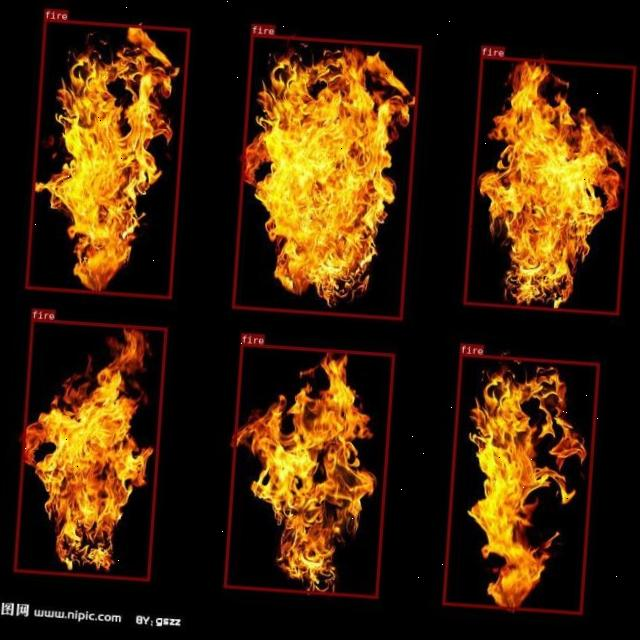fire: (230, 33, 420, 320), (24, 18, 190, 298), (462, 54, 634, 314), (223, 342, 395, 598), (442, 353, 598, 614), (13, 318, 166, 580)
